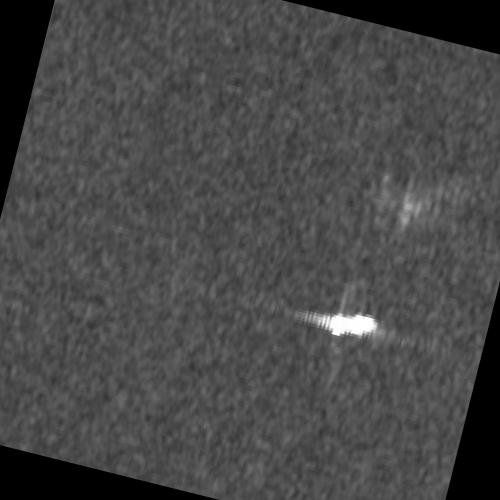ship: (324, 312, 379, 337)
